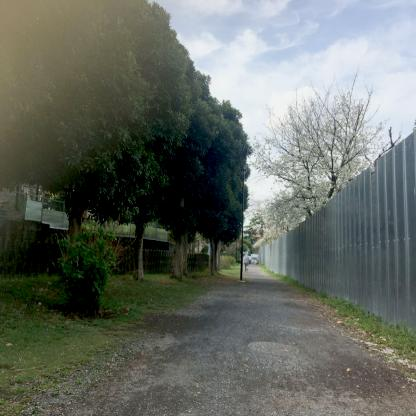Someiyoshino: (235, 60, 398, 254)
